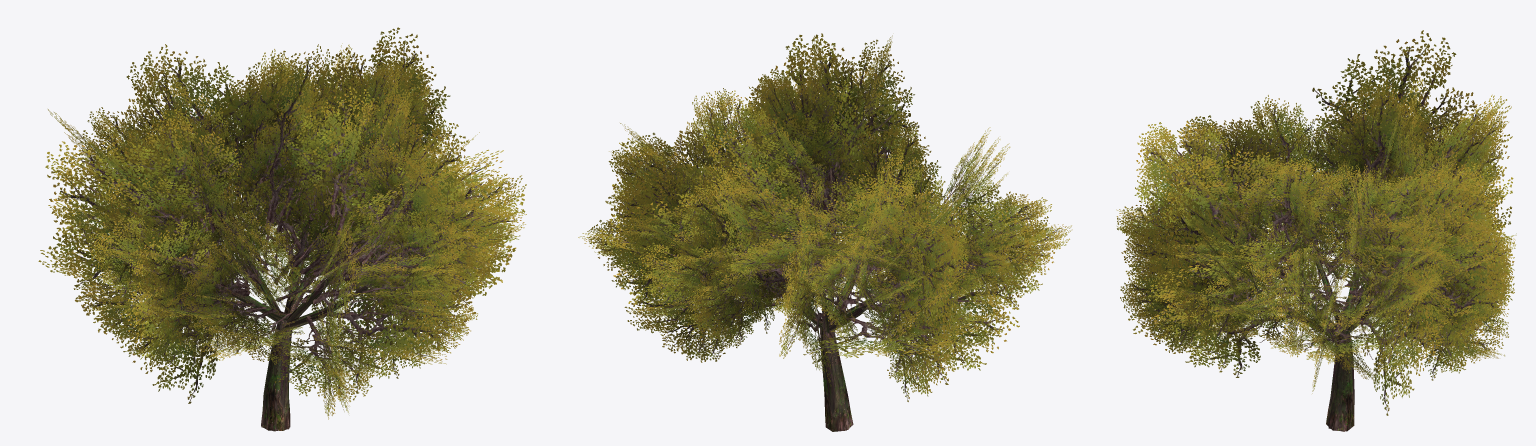
Rendered from far.glb.
The picture shows the model from 3 angles, left to right: view 1: azimuth 30°, elevation 25°; view 2: azimuth 150°, elevation 25°; view 3: azimuth 270°, elevation 25°; orthographic projection. The views are drawn at different scales.
Parts seen in each view (by area): view 1: lod1, lod2; view 2: lod1, lod2; view 3: lod1, lod2.
Part boxes in pixels (left/top/right/bottom): lod1: left=73, top=44, right=526, bottom=430; lod2: left=38, top=27, right=525, bottom=431; lod1: left=578, top=35, right=1072, bottom=431; lod2: left=599, top=33, right=1051, bottom=429; lod1: left=1117, top=75, right=1515, bottom=431; lod2: left=1116, top=30, right=1516, bottom=431.
Size of the model in its own units: 26.32 by 21.94 by 24.99.
2 materials, 2 textured.
